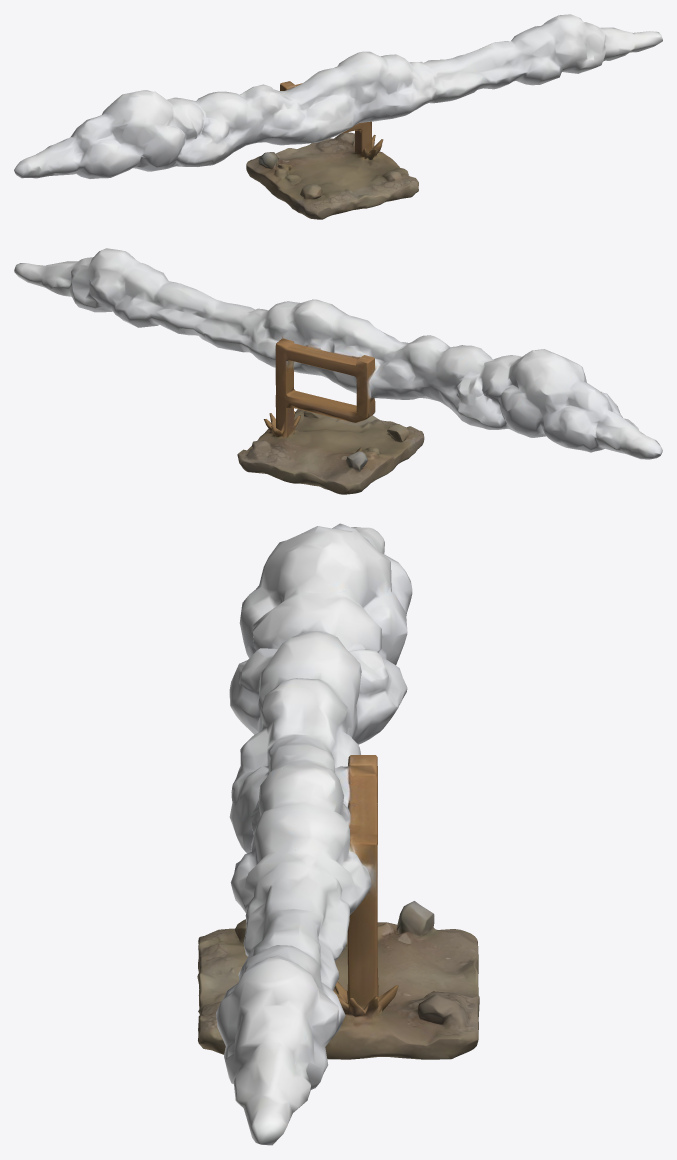
File: journey_cloud_b.glb
The picture shows the model from 3 angles, top to bottom: view 1: azimuth 30°, elevation 25°; view 2: azimuth 150°, elevation 25°; view 3: azimuth 270°, elevation 25°; orthographic projection. The views are drawn at different scales.
Parts seen in each view (by area): view 1: tripo_node_4dc3fa95-eaf4-4c78-ba81-f775fee37a97; view 2: tripo_node_4dc3fa95-eaf4-4c78-ba81-f775fee37a97; view 3: tripo_node_4dc3fa95-eaf4-4c78-ba81-f775fee37a97.
Part boxes in pixels (x1,y1,x2,y2): tripo_node_4dc3fa95-eaf4-4c78-ba81-f775fee37a97: (14,14,662,219); tripo_node_4dc3fa95-eaf4-4c78-ba81-f775fee37a97: (14,248,662,494); tripo_node_4dc3fa95-eaf4-4c78-ba81-f775fee37a97: (197,523,479,1145).
Bounding box in the file's own units: 1 × 0.2164 × 0.1964.
1 material, 1 textured.
